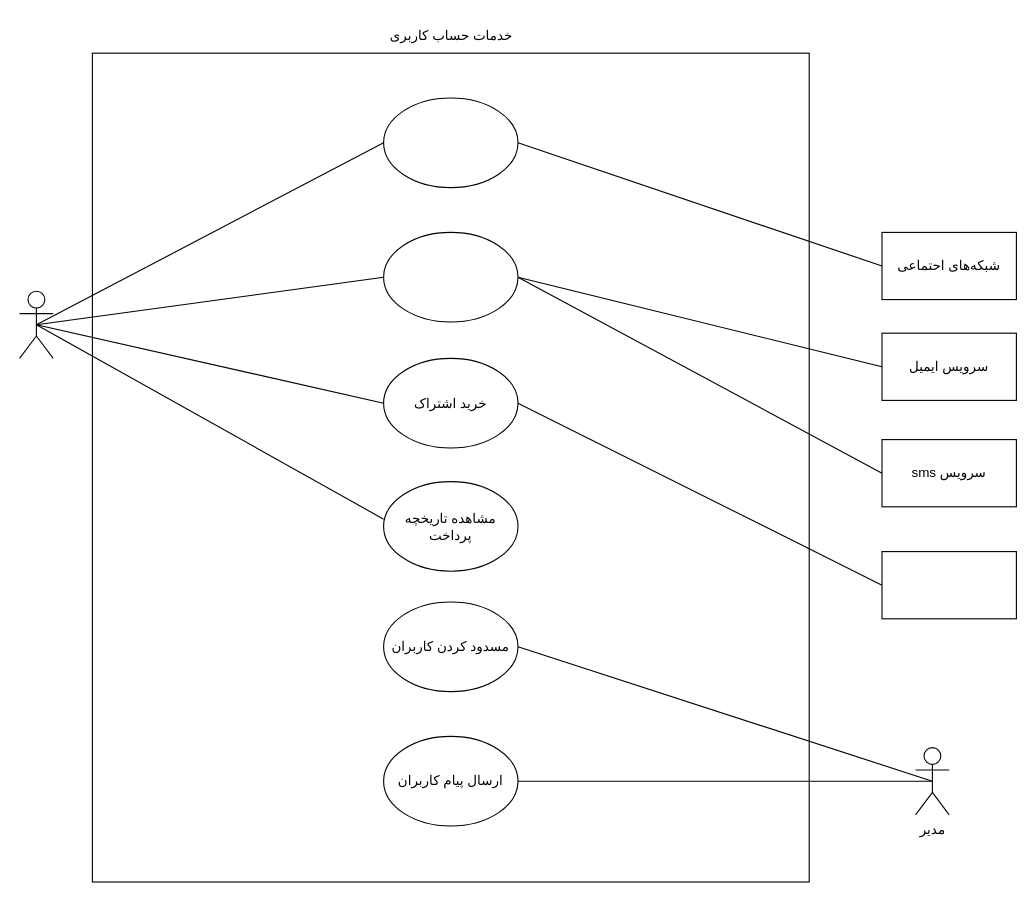
This 1036x902 diagram has some shape labels left out. Each missing label, with the centre of its shape:
"احراز هویت" belongs at [450,276].
"درگاه پرداخت بانکی" belongs at [948,584].
"ویرایش اطلاعات حساب" belongs at [450,142].
"کاربر" belongs at [35,324].
